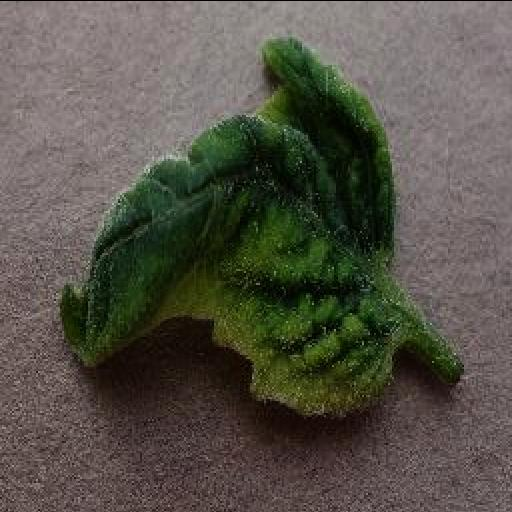disease_tomato: (58, 33, 402, 419)
